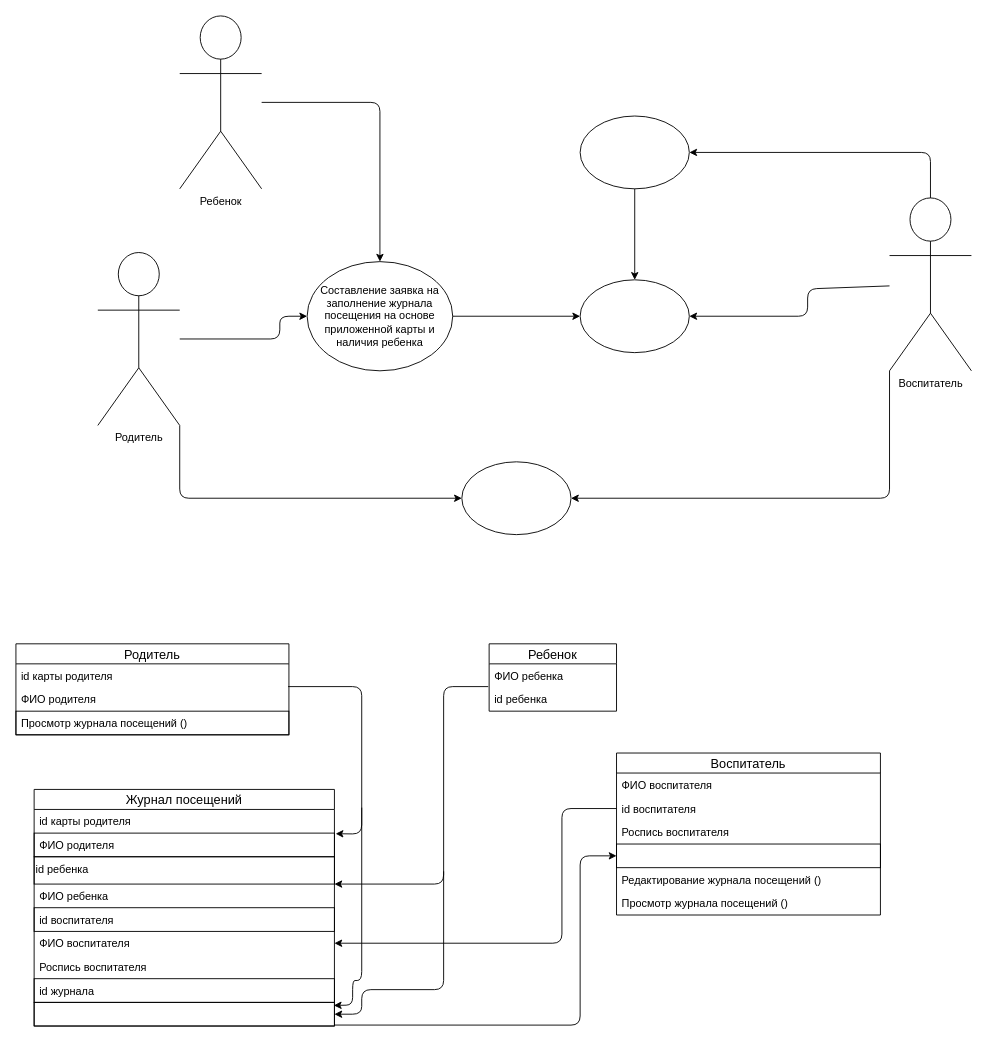
Some shapes in this 987 by 1048 pixel diagram are drawn without their labels. The centre of each missing label's shape, as x and y in pixels:
"Заполнение журнала посещений" belongs at (634,316).
"Заполнение журнала посещений ()" belongs at (748,855).
"Просмотр журнала посещений" belongs at (516,498).
"Редактирование журнала посещений" belongs at (634,152).
"Сопоставление личных данных родителя и ребенка ()" belongs at (183,1013).
